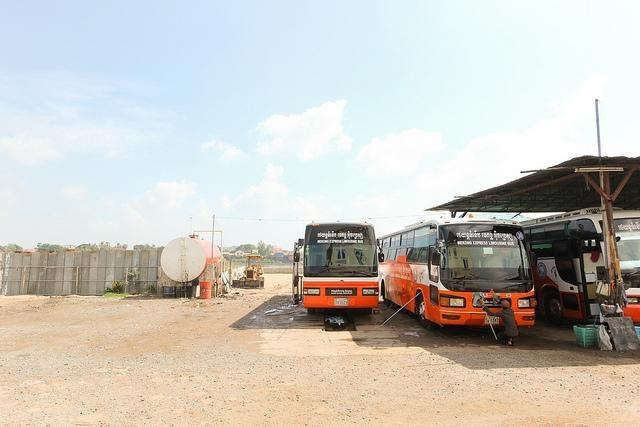bus: (380, 218, 534, 329), (518, 208, 607, 320), (299, 224, 380, 308)
